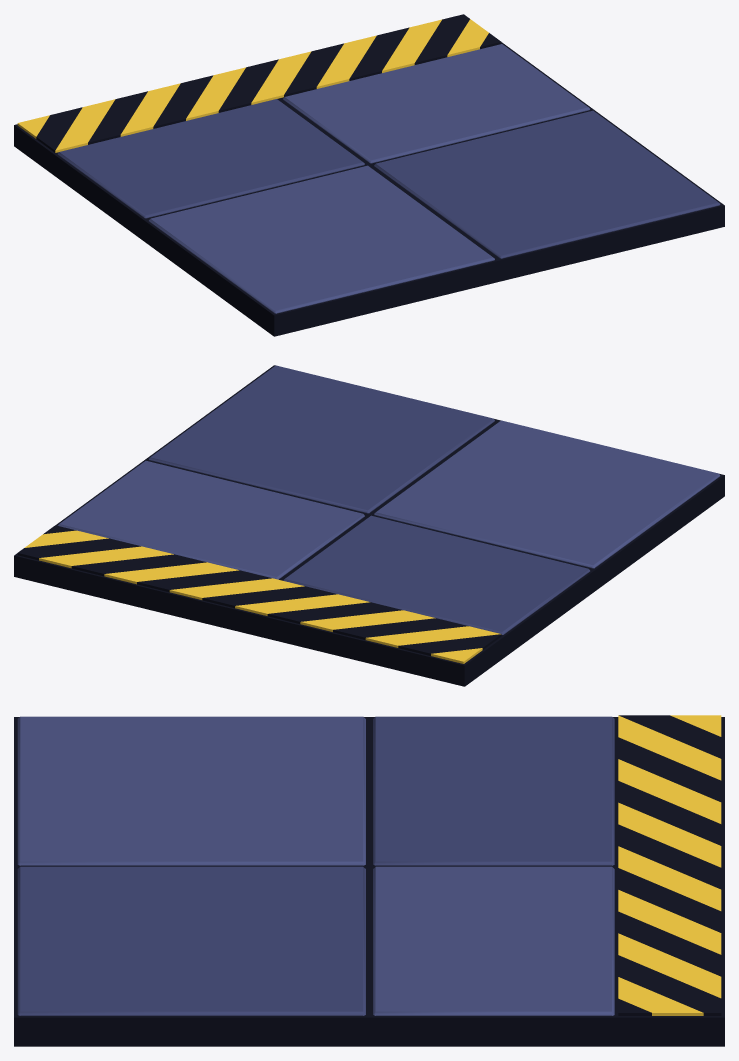
The model's file is floor_hazard.glb.
The picture shows the model from 3 angles, top to bottom: view 1: azimuth 30°, elevation 25°; view 2: azimuth 150°, elevation 25°; view 3: azimuth 270°, elevation 25°; orthographic projection. The views are drawn at different scales.
Visible parts, largest first — view 1: Body; view 2: Body; view 3: Body.
Boxes of the visible parts, x1,y1,x2,y2 form: Body: (14,14,724,336); Body: (14,365,724,686); Body: (14,715,724,1046).
Bounding box in the file's own units: 4 × 0.2 × 4.
